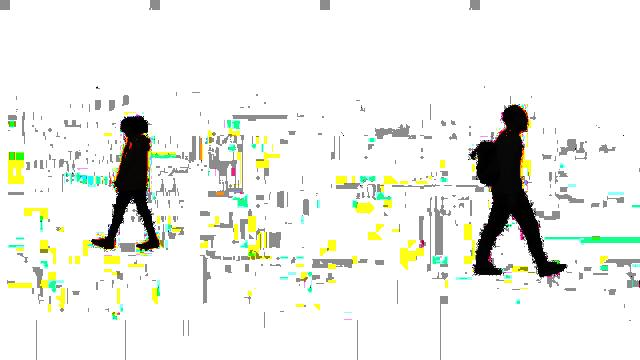berjalan: (468, 102, 570, 286), (96, 114, 166, 248)
